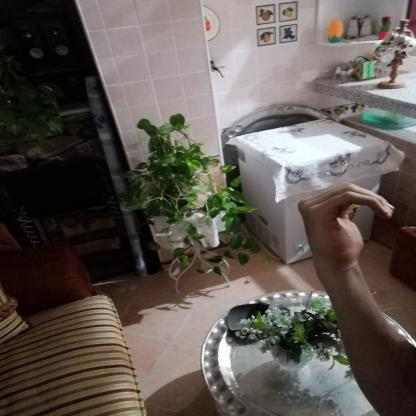HAA: (288, 175, 405, 277)
